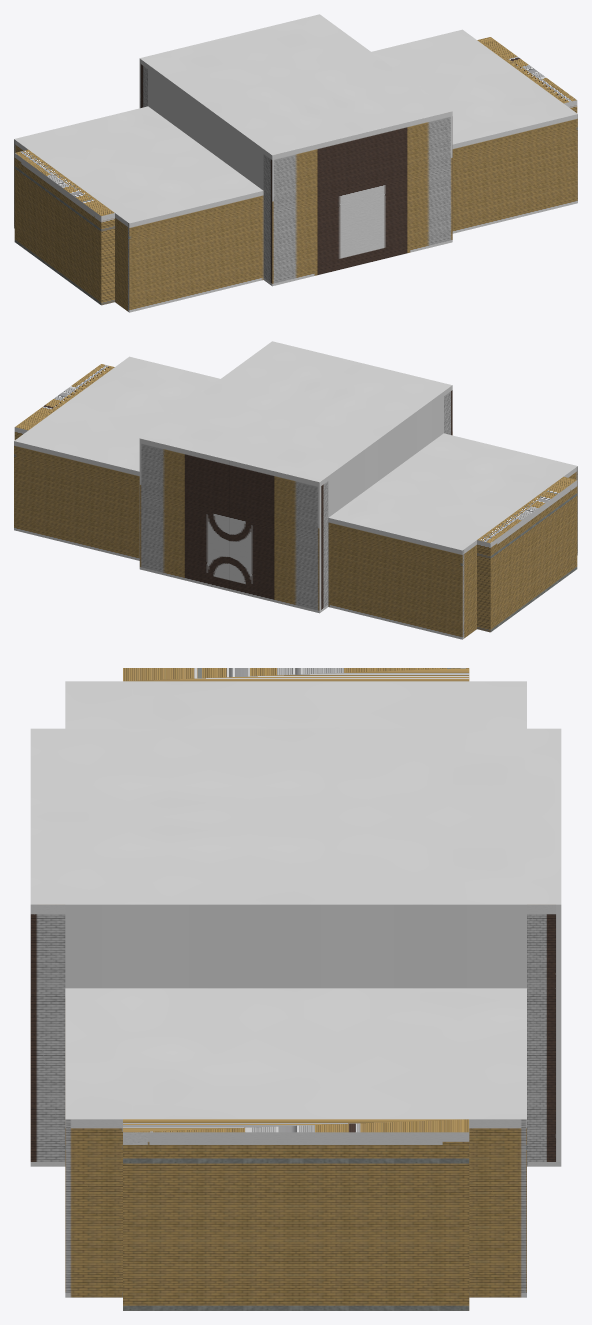
File: building_lod_3.fbx
3 renders of one model, top to bottom at view 1: azimuth 30°, elevation 25°; view 2: azimuth 150°, elevation 25°; view 3: azimuth 270°, elevation 25°, orthographic. The views are drawn at different scales.
Parts seen in each view (by area): view 1: building_lod_3; view 2: building_lod_3; view 3: building_lod_3.
Boxes of the visible parts, x1,y1,x2,y2 form: building_lod_3: (14, 14, 577, 312); building_lod_3: (14, 341, 577, 639); building_lod_3: (30, 668, 561, 1310).
Bounding box in the file's own units: 3181 × 837 × 1537.
